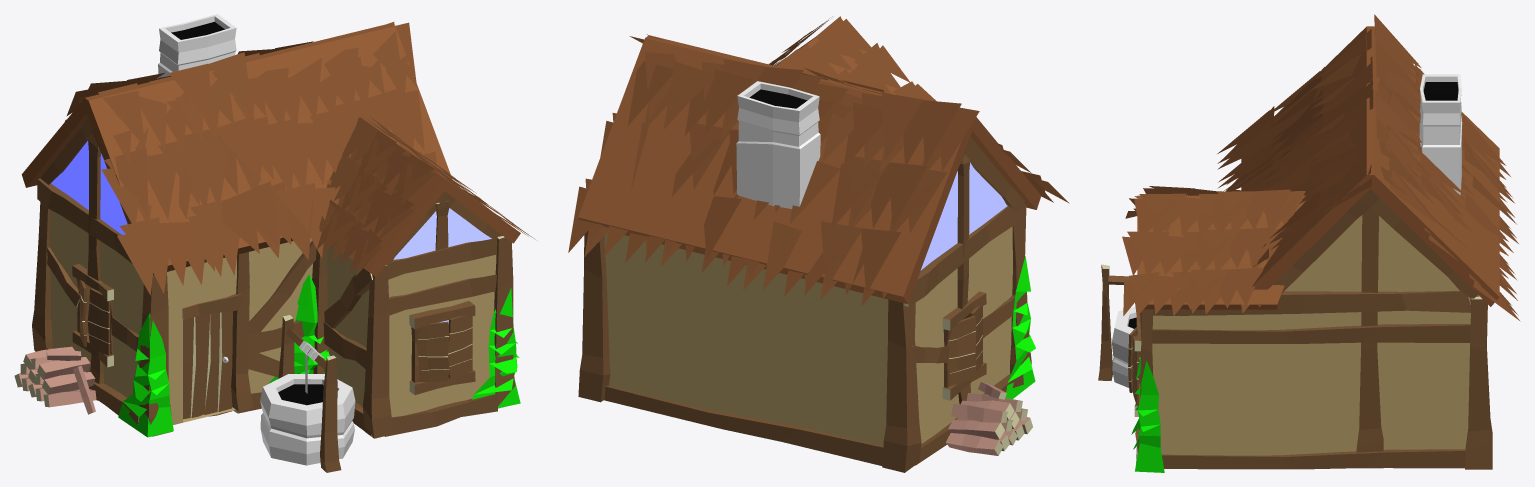
File: low_poly_village_house_cute.glb
3 renders of one model, left to right at view 1: azimuth 30°, elevation 25°; view 2: azimuth 150°, elevation 25°; view 3: azimuth 270°, elevation 25°, orthographic. The views are drawn at different scales.
Visible parts, largest first — view 1: House 1_0; view 2: House 1_0; view 3: House 1_0.
Boxes of the visible parts, box(x1,y1,x2,y2) form: House 1_0: box(14, 14, 535, 472); House 1_0: box(568, 16, 1069, 472); House 1_0: box(1098, 14, 1520, 472).
Size of the model in its own units: 8.68 by 6.89 by 8.51.
